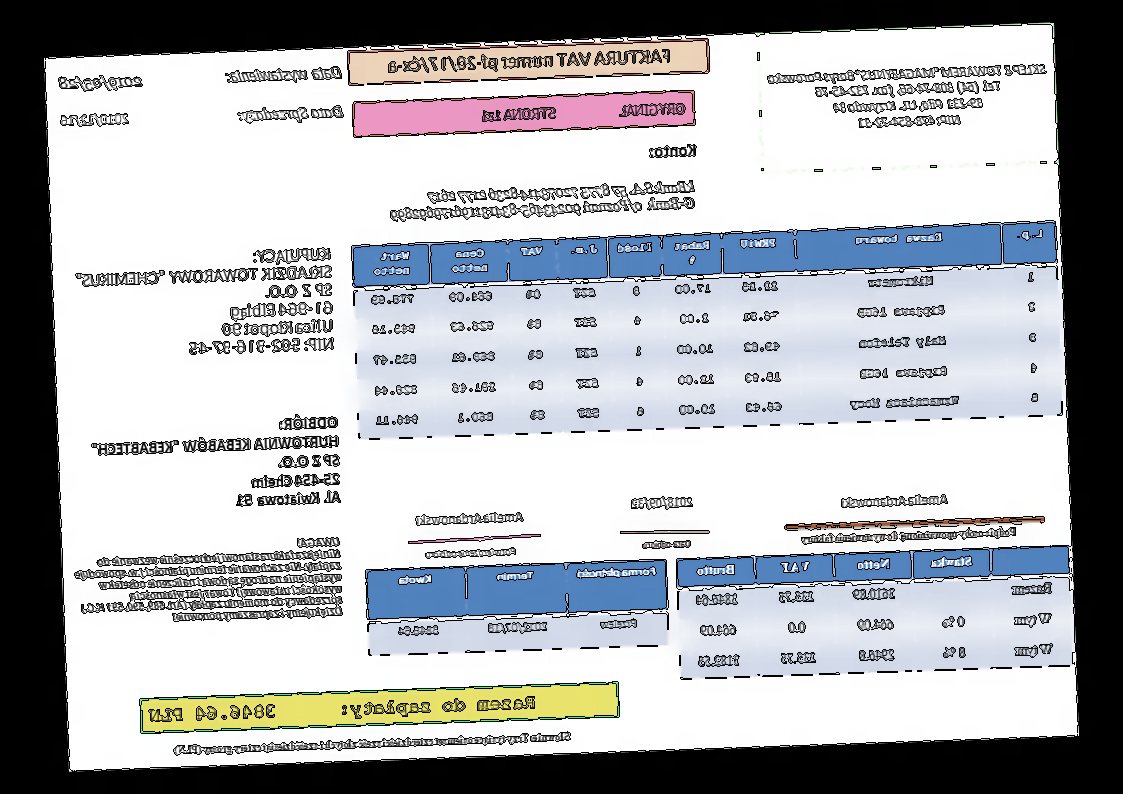Table: (350, 219, 1065, 441), (676, 543, 1075, 680), (365, 558, 671, 657)
TextBox: (72, 244, 338, 362), (88, 412, 342, 514), (72, 534, 345, 627), (766, 60, 1049, 133), (386, 178, 698, 224), (148, 693, 538, 727), (173, 729, 572, 757), (385, 46, 673, 76), (479, 100, 686, 124), (801, 524, 1019, 546), (224, 62, 344, 87), (236, 103, 346, 125), (840, 492, 949, 511), (57, 71, 145, 94), (415, 510, 525, 526), (423, 544, 519, 560), (59, 110, 131, 128), (630, 494, 695, 512), (649, 141, 699, 161), (643, 537, 693, 551)
